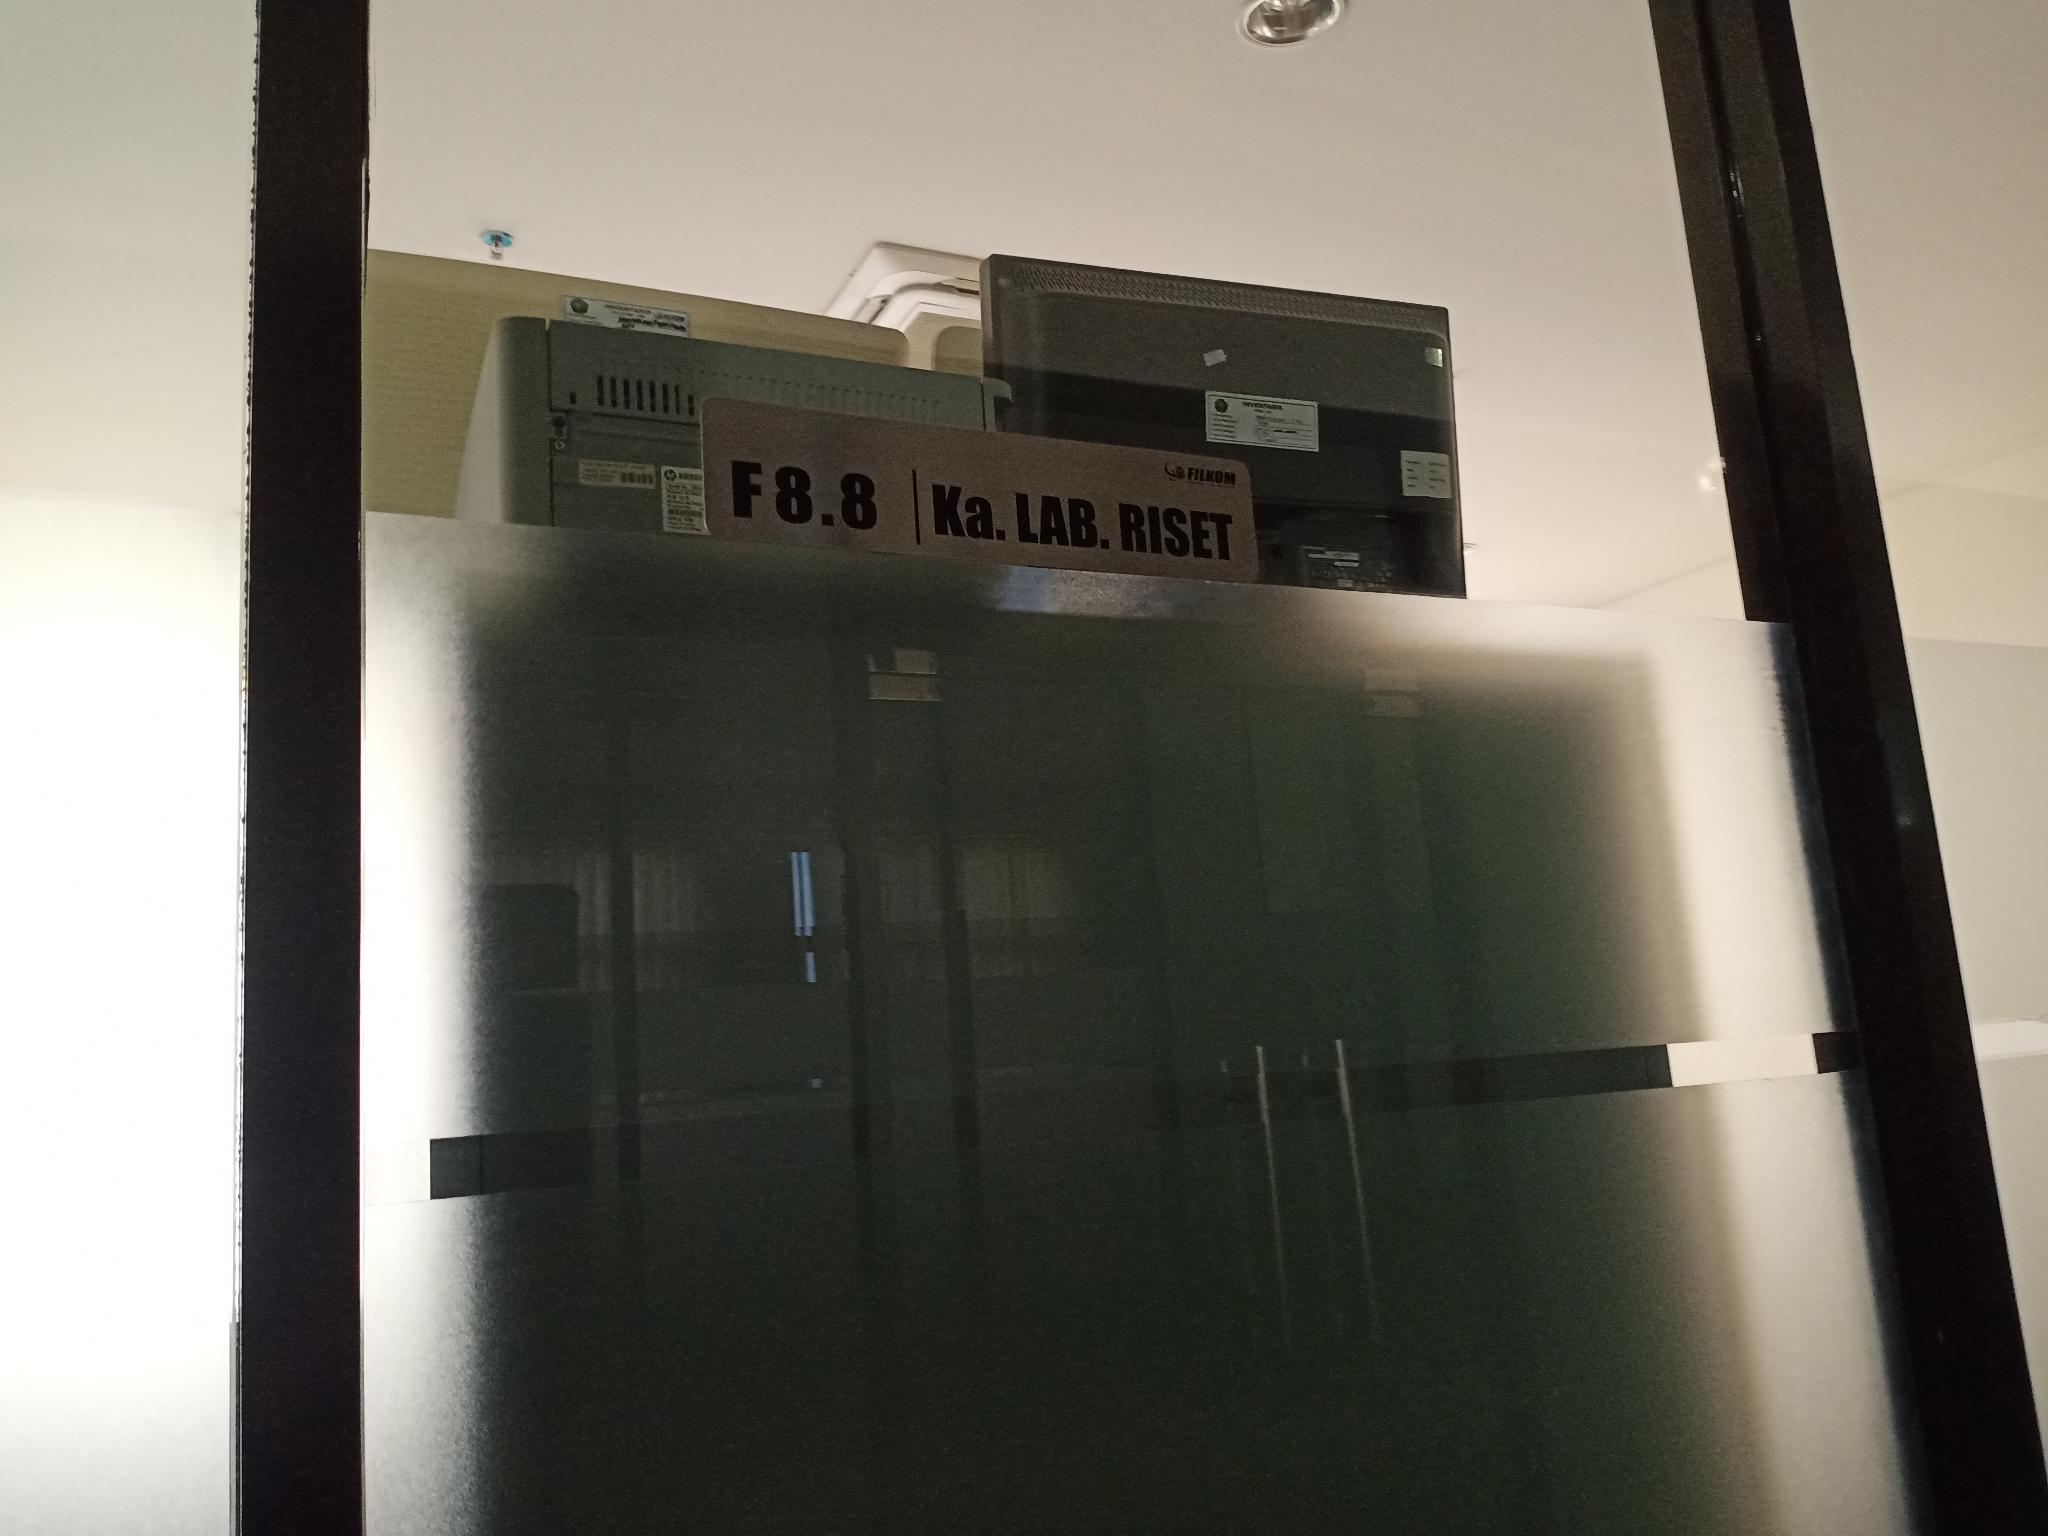plate: (706, 399, 1263, 581)
